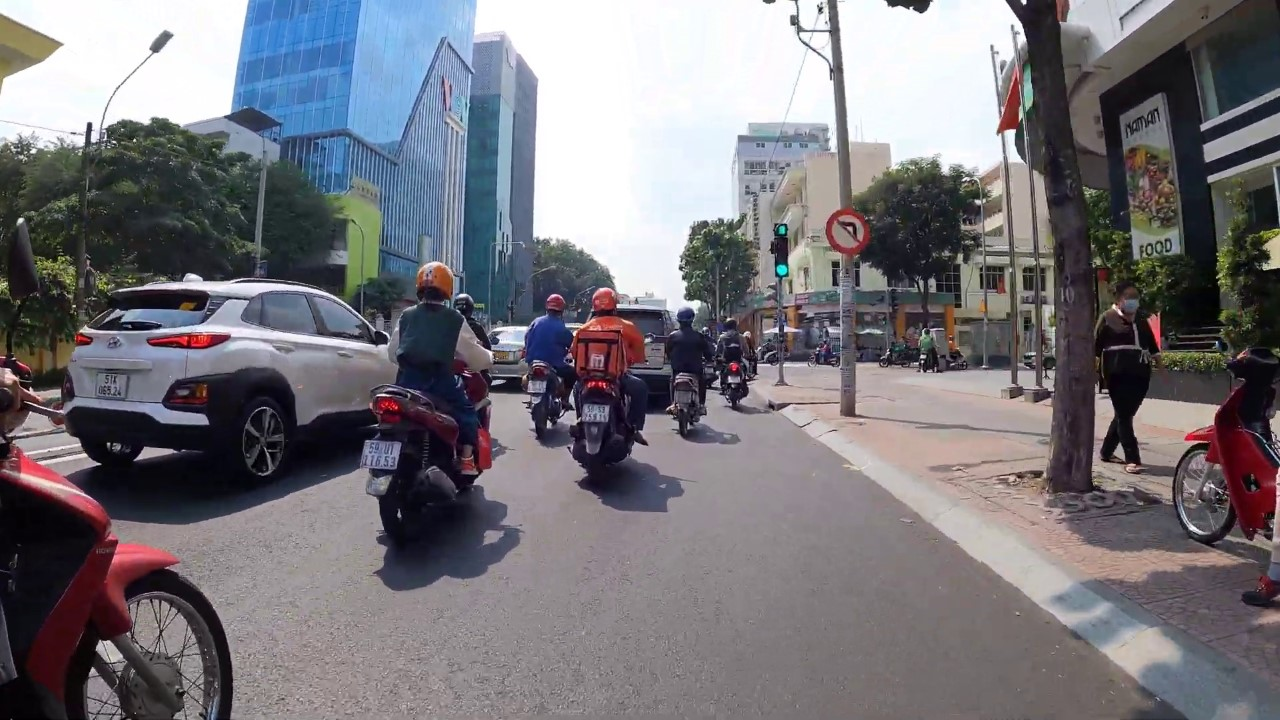cam_re_trai: (825, 208, 870, 256)
